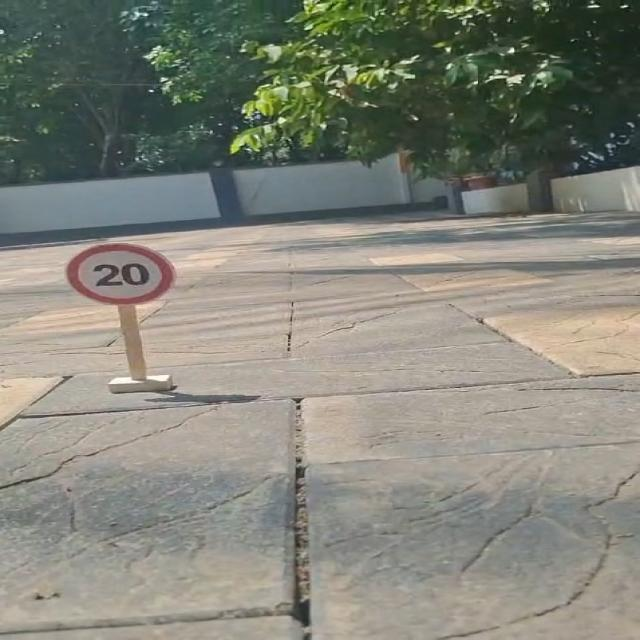Speed20: (54, 237, 186, 309)
